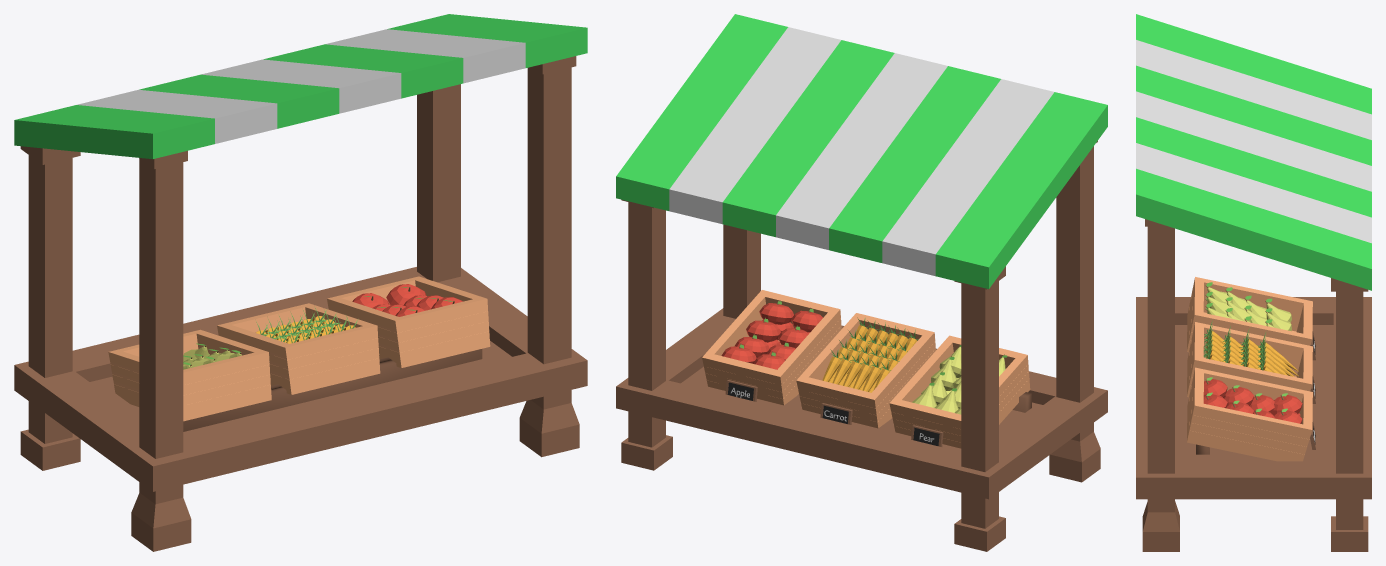
File: market stall3f.fbx
3 views of the same model, side by side, from view 1: azimuth 30°, elevation 25°; view 2: azimuth 150°, elevation 25°; view 3: azimuth 270°, elevation 25° (orthographic). The views are drawn at different scales.
Visible parts, largest first — view 1: Cube, Cylinder, LowPoly_Apple.001, LowPoly_Carrot, LowPoly_Pear.001; view 2: Cube, Cylinder, LowPoly_Carrot, LowPoly_Apple.001, LowPoly_Pear.001, Cube.001; view 3: Cube, Cylinder, LowPoly_Apple.001, LowPoly_Carrot, LowPoly_Pear.001, Cube.001.
Part boxes in pixels (x1,y1,x2,y2): Cube: [14, 14, 587, 551]; Cylinder: [108, 276, 490, 421]; LowPoly_Apple.001: [352, 284, 462, 316]; LowPoly_Carrot: [256, 308, 357, 343]; LowPoly_Pear.001: [183, 343, 241, 369]; Cube: [616, 14, 1107, 551]; Cylinder: [702, 290, 1030, 448]; LowPoly_Carrot: [822, 317, 918, 392]; LowPoly_Apple.001: [721, 300, 822, 369]; LowPoly_Pear.001: [912, 345, 1007, 414]; Cube.001: [725, 380, 943, 446]; Cube: [1136, 14, 1371, 551]; Cylinder: [1187, 277, 1312, 461]; LowPoly_Apple.001: [1203, 377, 1302, 423]; LowPoly_Carrot: [1203, 320, 1298, 376]; LowPoly_Pear.001: [1205, 282, 1291, 330]; Cube.001: [1310, 331, 1315, 449].
Bounding box in the file's own units: 1687 × 1566 × 932.
